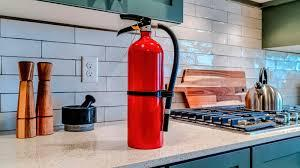floor-kept: (115, 11, 180, 153)
